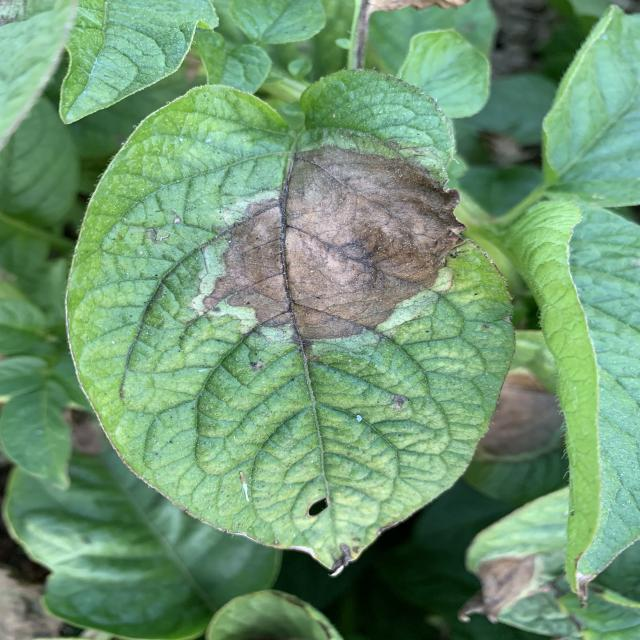lateblight: (200, 147, 467, 345)
